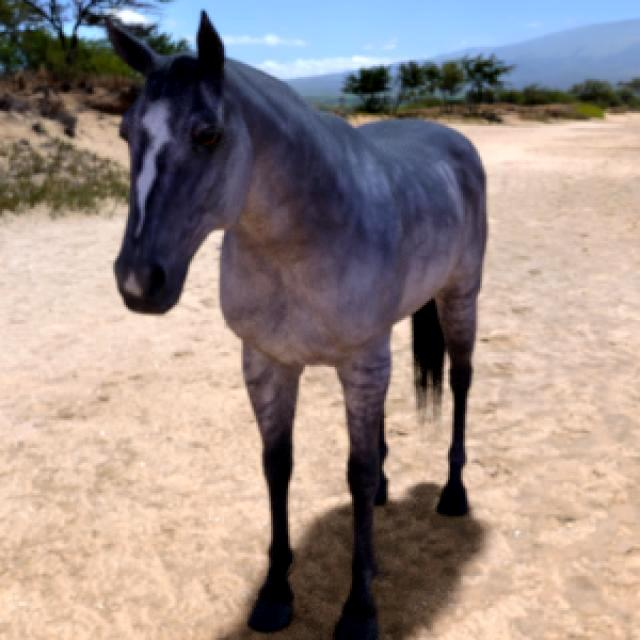horse: (108, 12, 486, 639)
